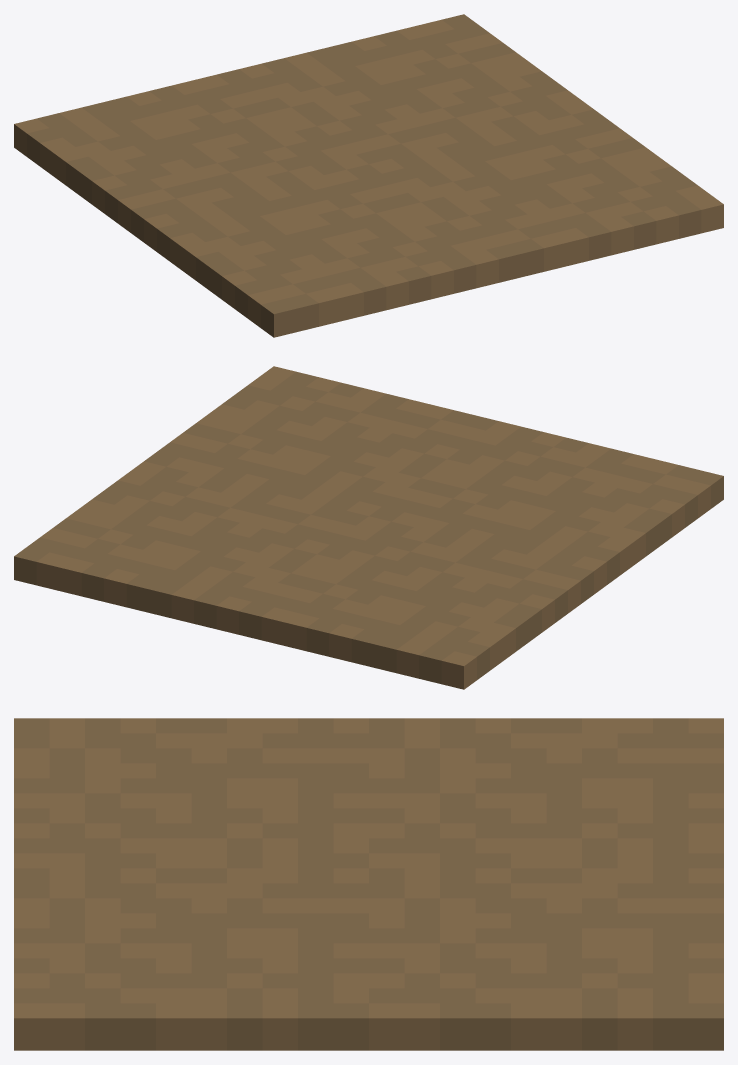
File: BlocksAndFloors-24.obj
3 renders of one model, top to bottom at view 1: azimuth 30°, elevation 25°; view 2: azimuth 150°, elevation 25°; view 3: azimuth 270°, elevation 25°, orthographic. The views are drawn at different scales.
Bounding box in the file's own units: 2 × 0.1 × 2.
1 material, 1 textured.
